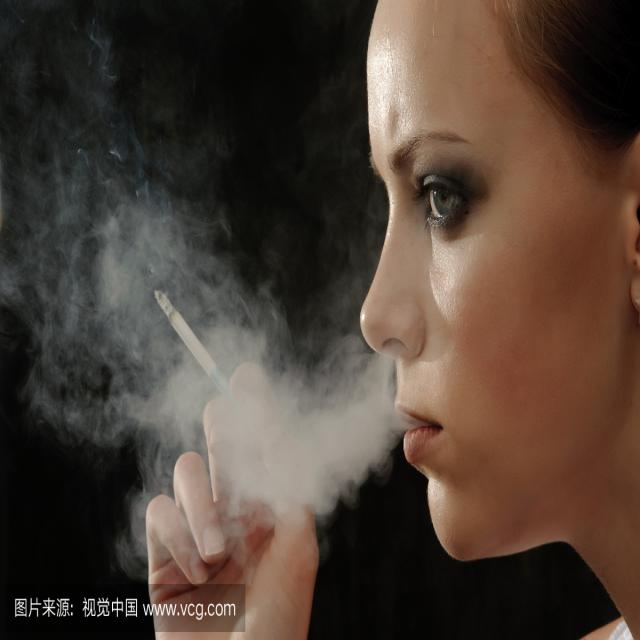smoke: (140, 282, 249, 414)
